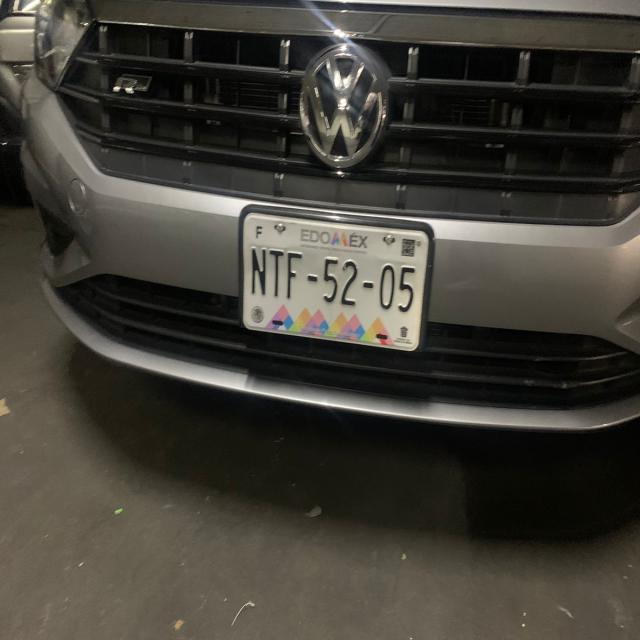placa: (243, 240, 417, 316)
